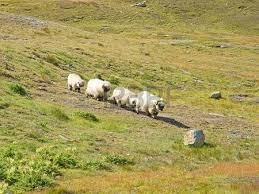sheep: (109, 83, 139, 114), (135, 90, 169, 117), (86, 75, 115, 103), (64, 72, 90, 94)
